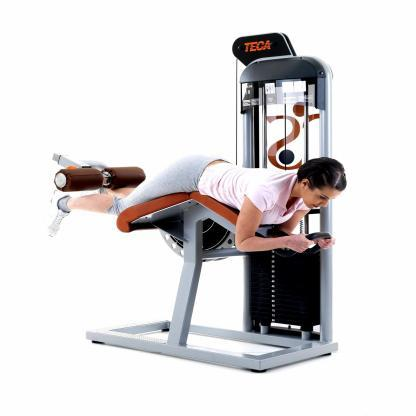reg curl machine: (40, 28, 350, 371)
